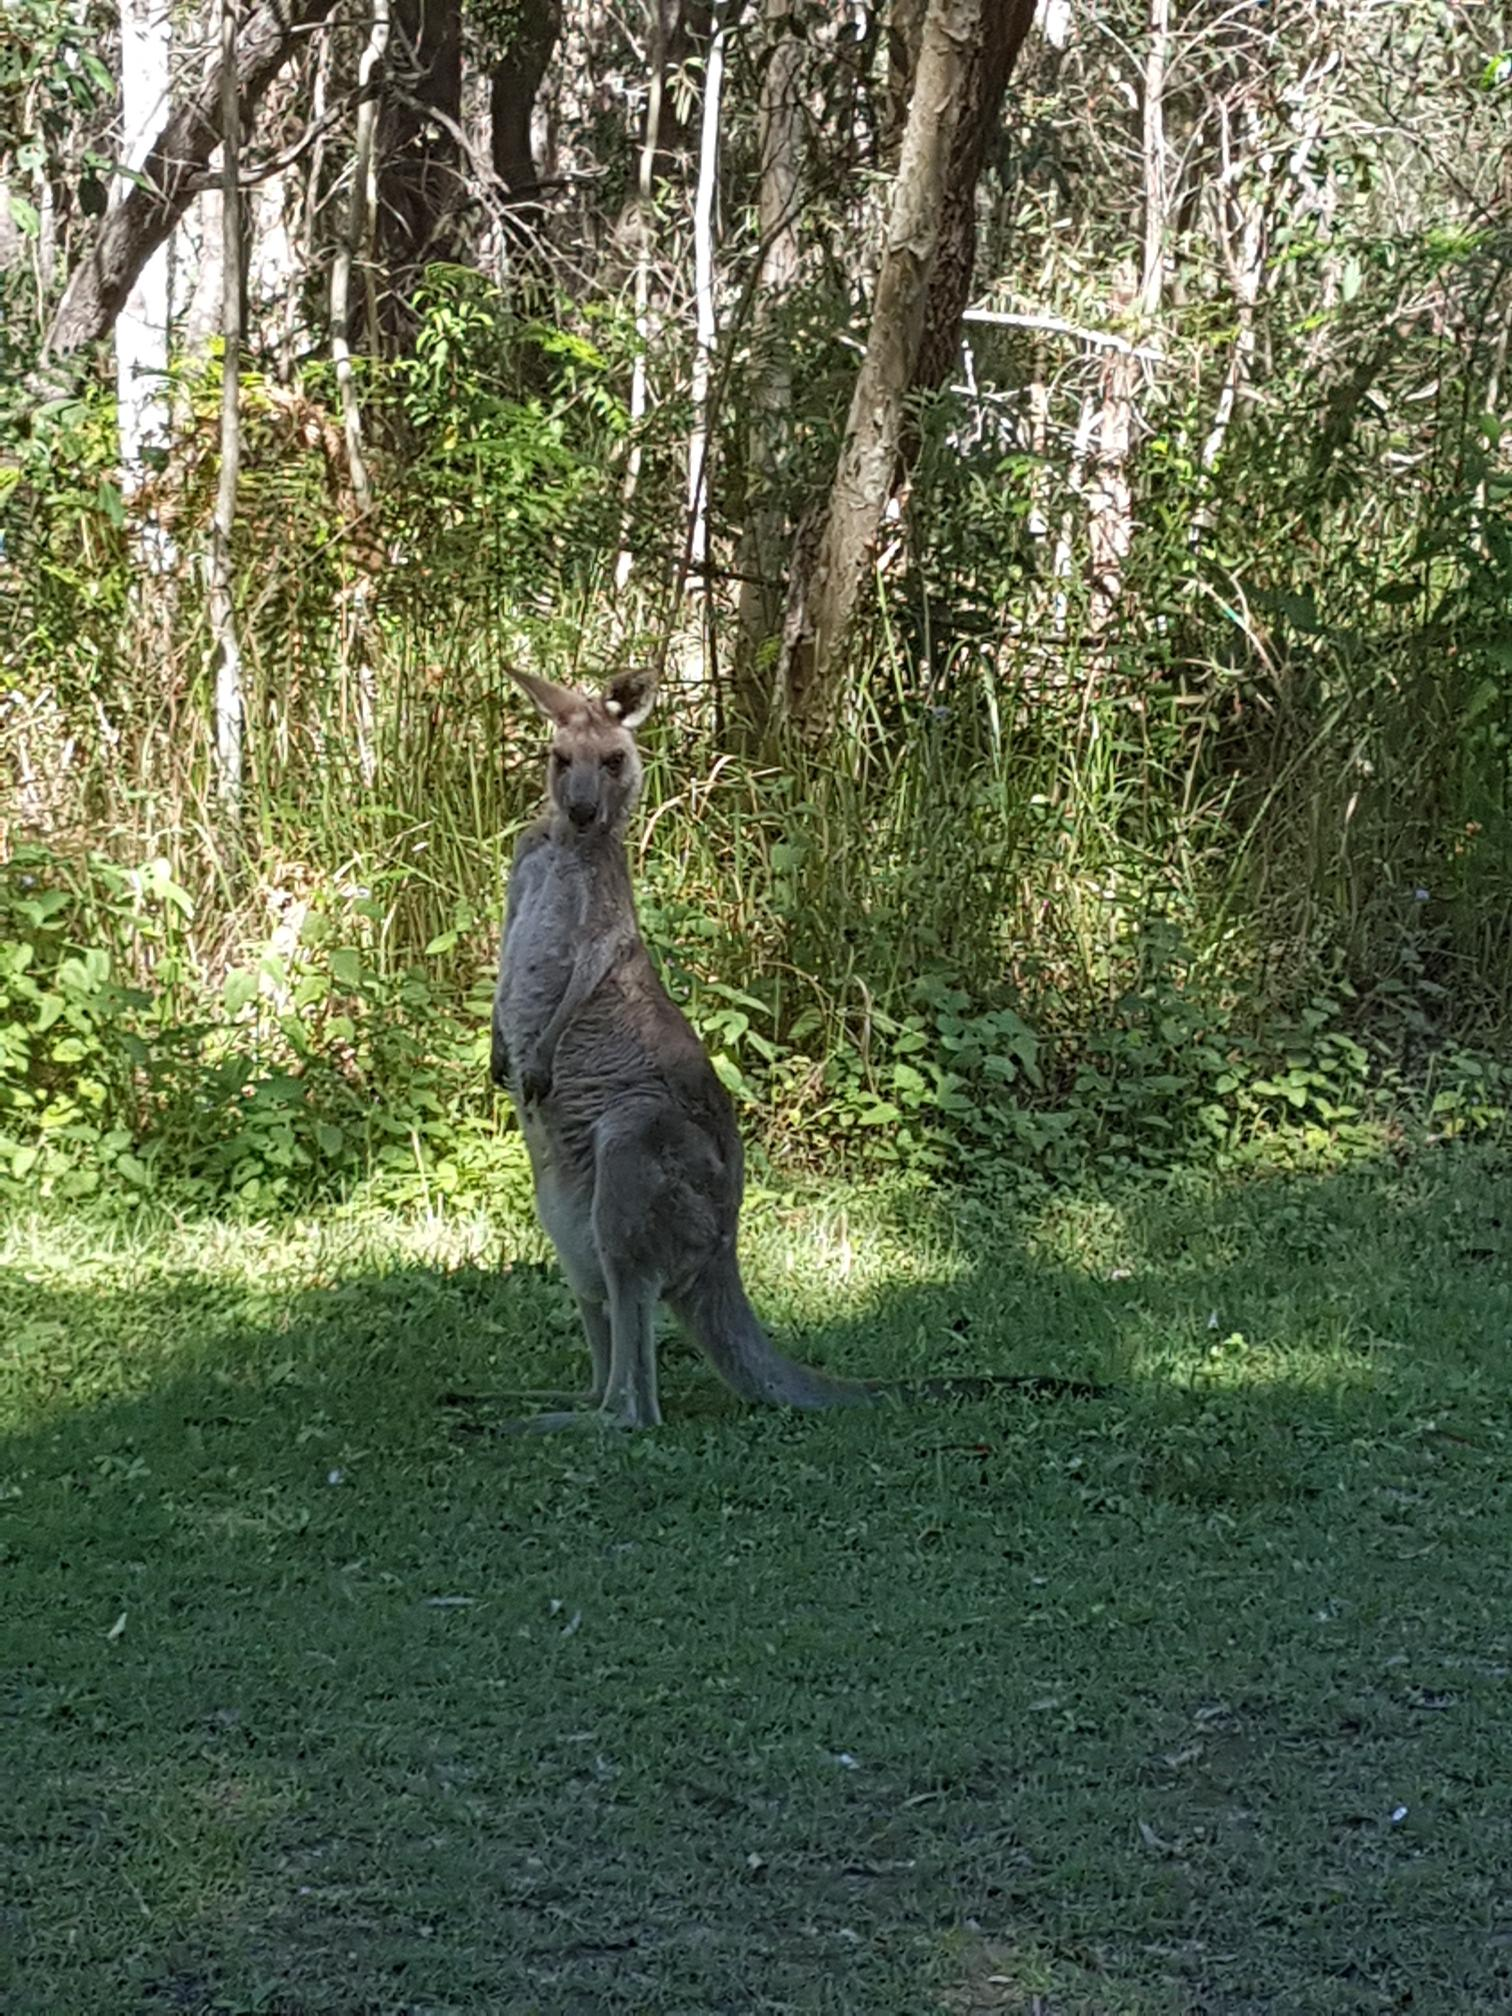Eastern grey kangaroo: (435, 667, 1140, 1438)
